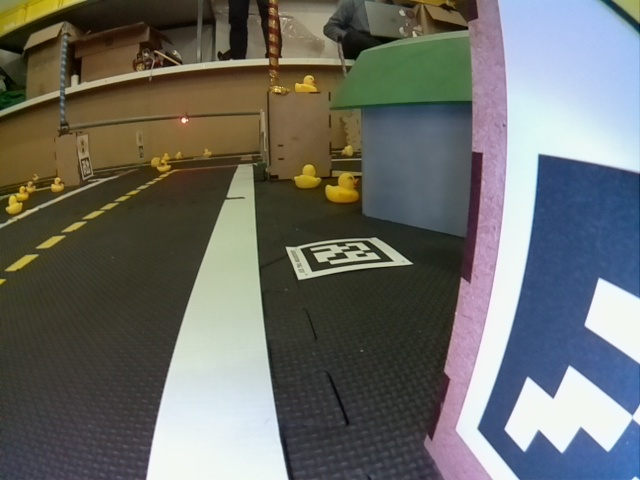Duckie: (325, 174, 359, 203), (294, 165, 319, 189), (295, 76, 316, 92), (5, 196, 23, 213), (51, 177, 65, 191), (17, 186, 28, 201), (157, 160, 170, 172), (341, 146, 353, 156), (26, 182, 35, 193), (174, 151, 183, 160), (31, 173, 40, 182), (151, 158, 161, 166), (203, 149, 212, 156)
QR code: (286, 236, 411, 279), (80, 157, 92, 178)
Signal sign: (78, 138, 88, 155)
Traffic light: (180, 114, 189, 124)
